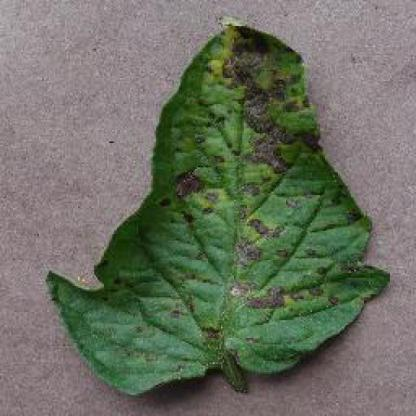Tomato_Blight: (47, 20, 390, 395)
